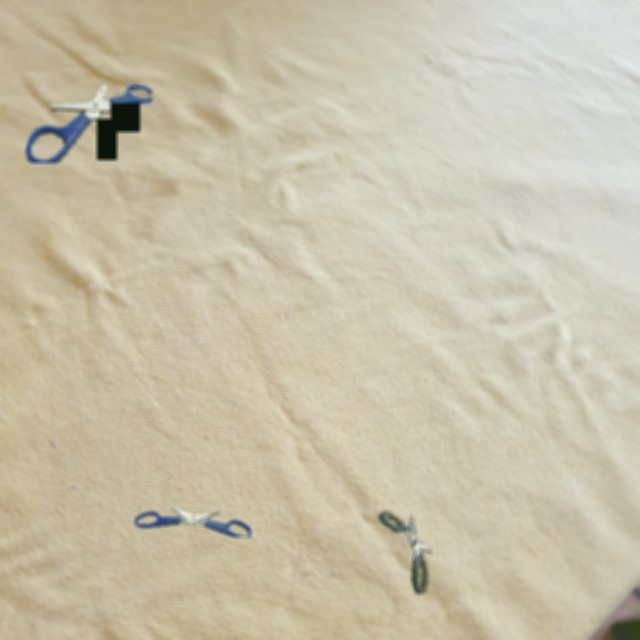scissors: (25, 82, 152, 163), (378, 511, 432, 594), (135, 506, 251, 537)
